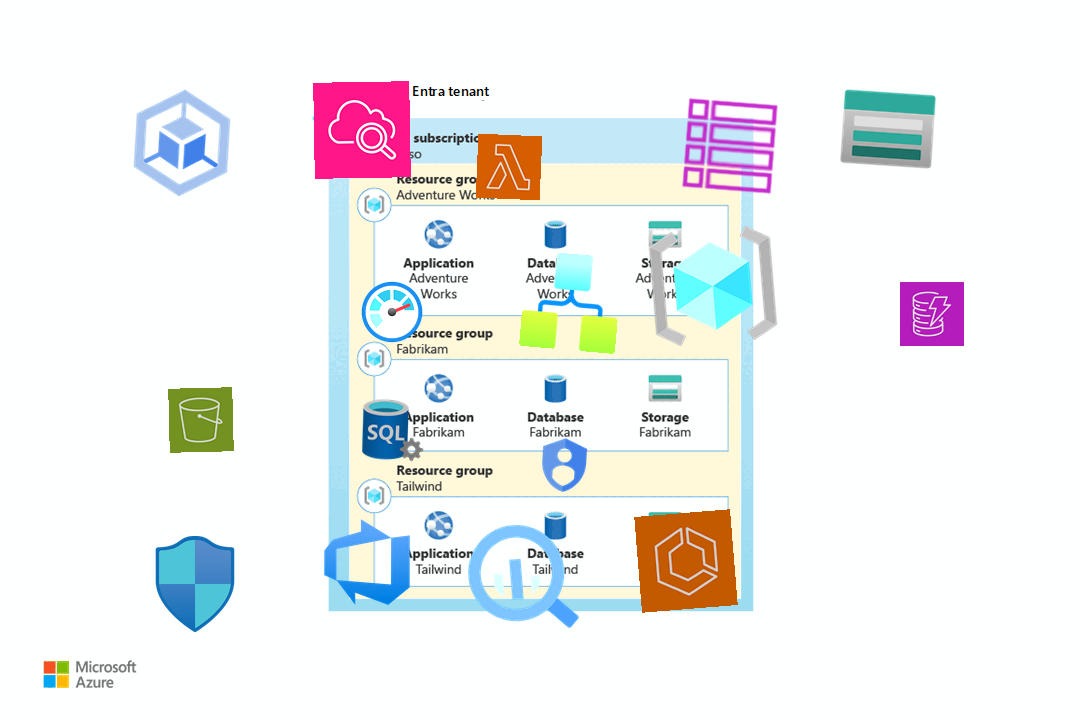aws_amazon_cloudwatch: (313, 81, 411, 179)
aws_amazon_dynamodb: (899, 281, 965, 347)
aws_amazon_elastic_container_service: (634, 509, 738, 613)
aws_amazon_simple_storage_service: (168, 387, 234, 453)
aws_dynamodb_table: (678, 94, 782, 198)
aws_lambda: (475, 133, 543, 201)
azure_devops: (318, 513, 416, 611)
azure_logic_apps: (519, 250, 623, 354)
azure_monitor: (359, 279, 425, 345)
azure_network_security_groups: (146, 535, 244, 633)
azure_resource_groups: (643, 216, 783, 356)
azure_sql_server: (360, 397, 426, 463)
azure_storage_accounts: (836, 77, 940, 181)
gcp_bigquery: (453, 509, 591, 647)
gcp_google_kubernetes_engine: (114, 75, 250, 211)
gcp_identity_and_access_management: (529, 430, 599, 500)
